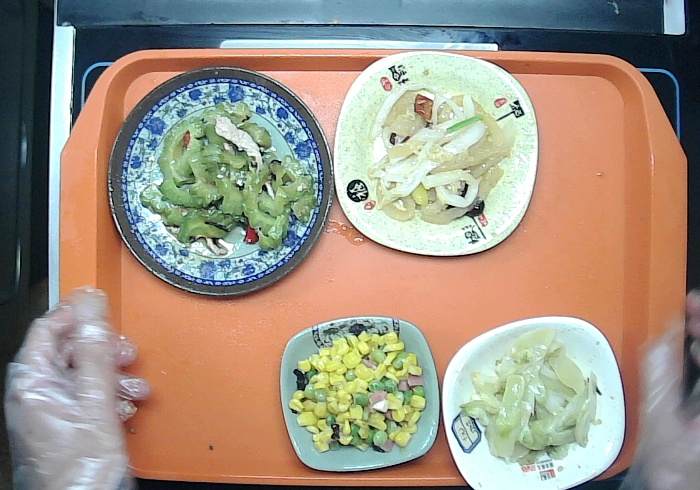NLDX-Bai_Se_Xiao_Fang_Die: (440, 312, 627, 490)
NLDX-Fu_Zi_Fang_Die: (330, 47, 541, 260)
NLDX-Qing_Hua_Xiao_Fang_Die: (275, 315, 443, 478)
NLDX-Qing_Hua_Yuan_Die: (103, 60, 338, 298)
